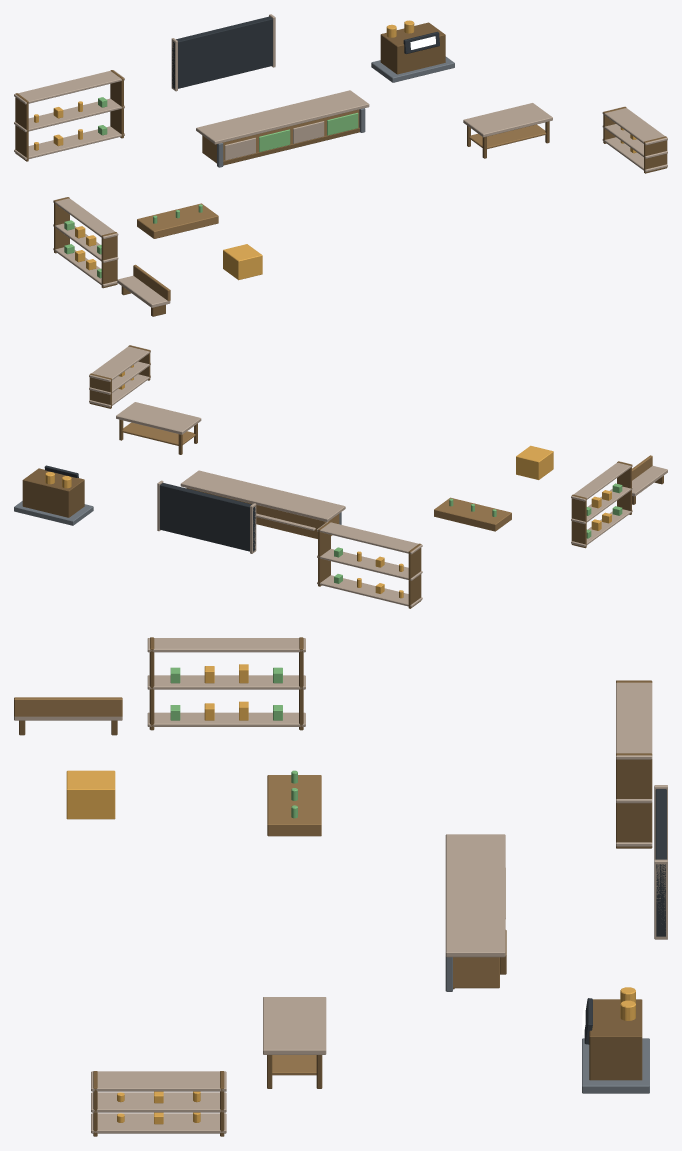
Rendered from southplot_rare_foods.lod1.glb.
3 renders of one model, top to bottom at view 1: azimuth 30°, elevation 25°; view 2: azimuth 150°, elevation 25°; view 3: azimuth 270°, elevation 25°, orthographic. The views are drawn at different scales.
Size of the model in its own units: 21.85 by 2.76 by 14.45.
